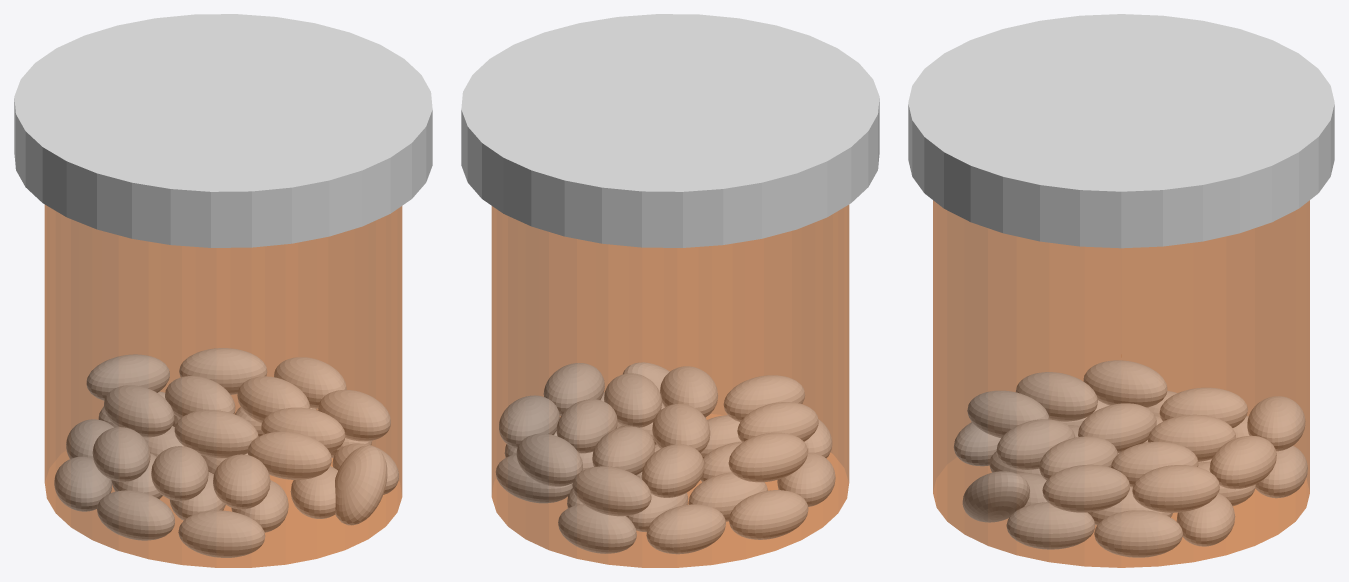
File: Drug5.fbx
3 renders of one model, left to right at view 1: azimuth 30°, elevation 25°; view 2: azimuth 150°, elevation 25°; view 3: azimuth 270°, elevation 25°, orthographic.
Visible parts, largest first — view 1: Cylinder, Cylinder.001, Sphere.026, Sphere.015, Sphere.022, Sphere.023, Sphere.014, Sphere.018, Sphere.021, Sphere.016, Sphere.017, Sphere.028 (+14 smaller); view 2: Cylinder, Cylinder.001, Sphere.028, Sphere.010, Sphere.011, Sphere.016, Sphere.005, Sphere.017, Sphere.018, Sphere.024, Sphere.029, Sphere.019 (+14 smaller); view 3: Cylinder, Cylinder.001, Sphere.001, Sphere.020, Sphere.021, Sphere, Sphere.028, Sphere.029, Sphere.017, Sphere.026, Sphere.023, Sphere.022 (+11 smaller).
Part boxes in pixels (<box>): Cylinder: <box>44,205,402,567</box>; Cylinder.001: <box>14,14,432,247</box>; Sphere.026: <box>335,445,387,525</box>; Sphere.015: <box>178,510,265,557</box>; Sphere.022: <box>174,410,258,458</box>; Sphere.023: <box>247,431,331,479</box>; Sphere.014: <box>97,490,174,540</box>; Sphere.018: <box>104,385,174,437</box>; Sphere.021: <box>318,390,390,441</box>; Sphere.016: <box>86,354,169,400</box>; Sphere.017: <box>179,348,267,394</box>; Sphere.028: <box>92,427,150,481</box>; Cylinder: <box>491,205,849,567</box>; Cylinder.001: <box>461,14,879,247</box>; Sphere.028: <box>728,432,807,482</box>; Sphere.010: <box>646,504,725,554</box>; Sphere.011: <box>729,490,808,539</box>; Sphere.016: <box>572,466,651,516</box>; Sphere.005: <box>558,504,636,553</box>; Sphere.017: <box>516,433,582,486</box>; Sphere.018: <box>641,444,704,497</box>; Sphere.024: <box>604,373,662,427</box>; Sphere.029: <box>737,402,818,442</box>; Sphere.019: <box>556,399,617,453</box>; Cylinder: <box>933,200,1309,567</box>; Cylinder.001: <box>908,14,1334,248</box>; Sphere.001: <box>1094,510,1182,557</box>; Sphere.020: <box>1132,465,1219,512</box>; Sphere.021: <box>1042,464,1129,512</box>; Sphere: <box>1006,502,1095,549</box>; Sphere.028: <box>1083,360,1167,407</box>; Sphere.029: <box>1016,372,1097,421</box>; Sphere.017: <box>1209,435,1276,489</box>; Sphere.026: <box>962,471,1029,522</box>; Sphere.023: <box>996,419,1074,469</box>; Sphere.022: <box>1078,403,1156,452</box>.
Size of the model in its own units: 29.13 by 29.85 by 29.55.
